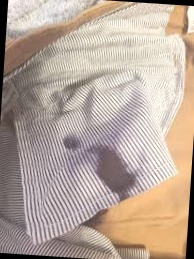ink: (95, 150, 136, 199), (62, 137, 79, 153)
